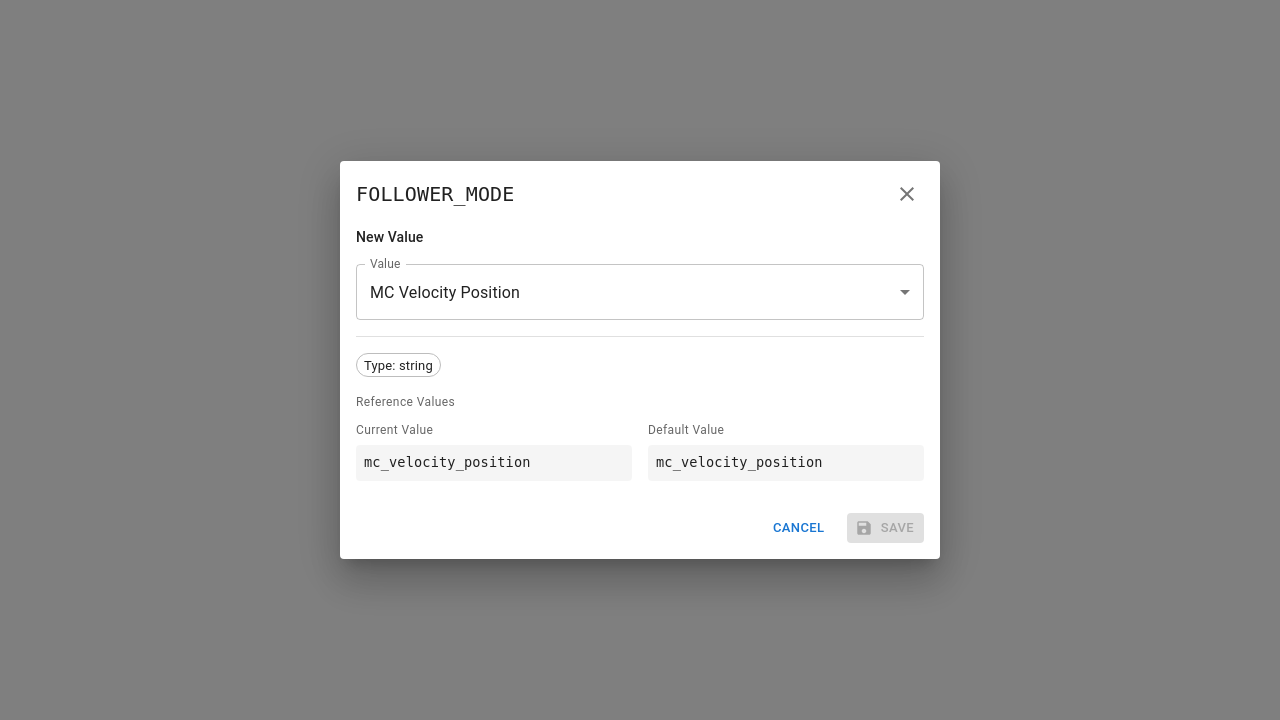
Scenario: closed catalog options do not expose a custom-value bypass
This screenshot has width=1280, height=720.
Press the mouse on the dropdown at [445, 292], box [370,283,520,302]
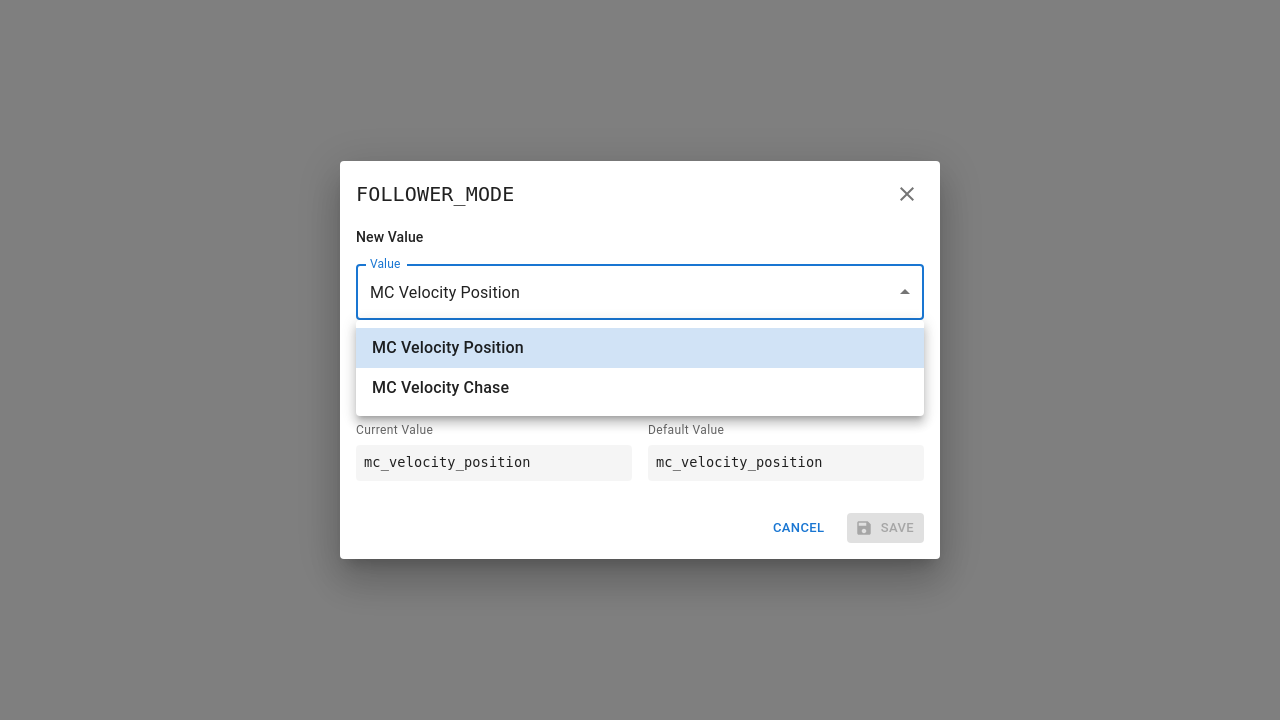
Expected: the option "MC Velocity Chase" is shown, [372,378,509,397]
